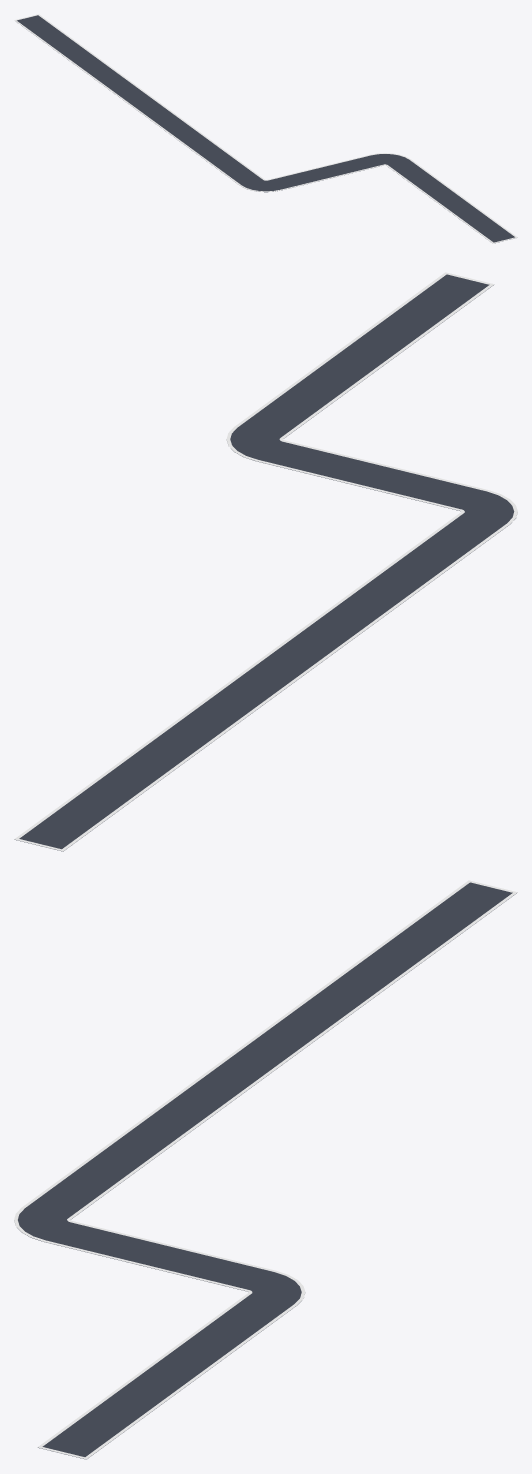
File: road_1.fbx
3 views of the same model, one above another, from view 1: azimuth 30°, elevation 25°; view 2: azimuth 150°, elevation 25°; view 3: azimuth 330°, elevation 25° (orthographic). The views are drawn at different scales.
Parts seen in each view (by area): view 1: road.001; view 2: road.001; view 3: road.001.
Part boxes in pixels (x1,y1,x2,y2): road.001: (14, 14, 517, 243); road.001: (14, 272, 517, 851); road.001: (14, 880, 517, 1459).
Bounding box in the file's own units: 727 × 0.6005 × 2829.
